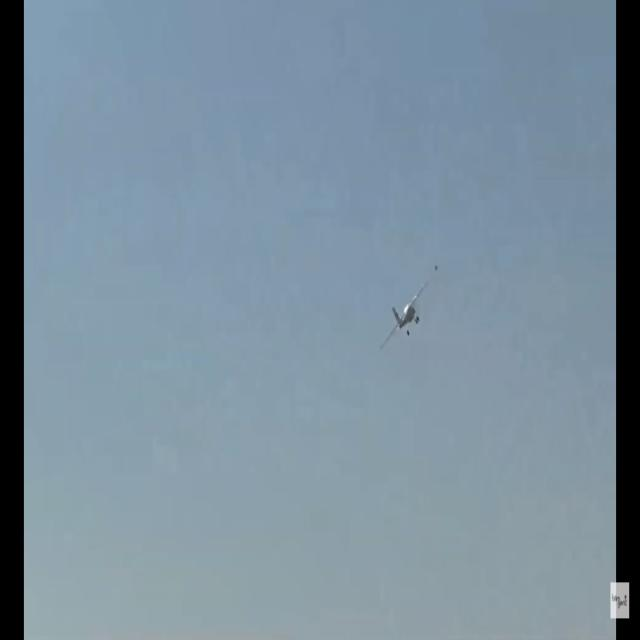iha: (379, 296, 437, 319)
